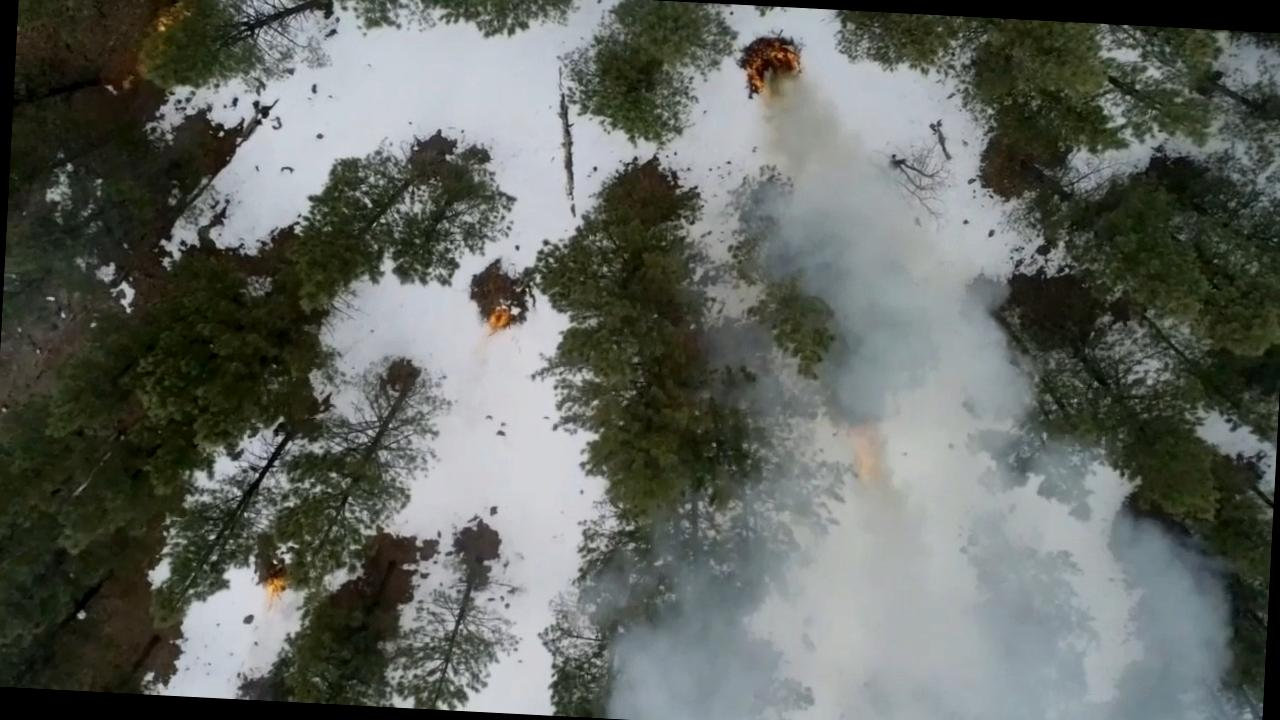fire: (733, 36, 816, 124), (841, 418, 894, 502), (473, 314, 512, 366)
smoke: (799, 396, 1206, 720), (747, 199, 976, 397), (603, 502, 810, 720)
